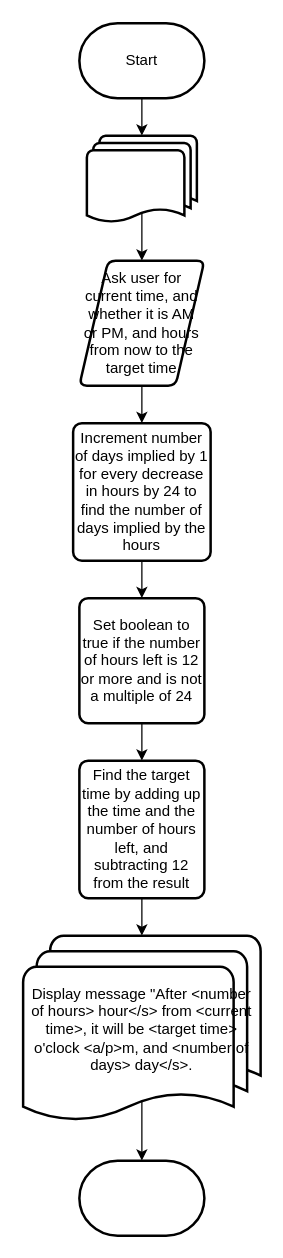
Some shapes in this 283 by 1258 pixel diagram are drawn without their labels. The shapes that lost their labels are listed below. From the top down, each one's centre as x and y in pixels, then its label:
the point at 141,179: Display program instructions
the point at 141,1197: End
